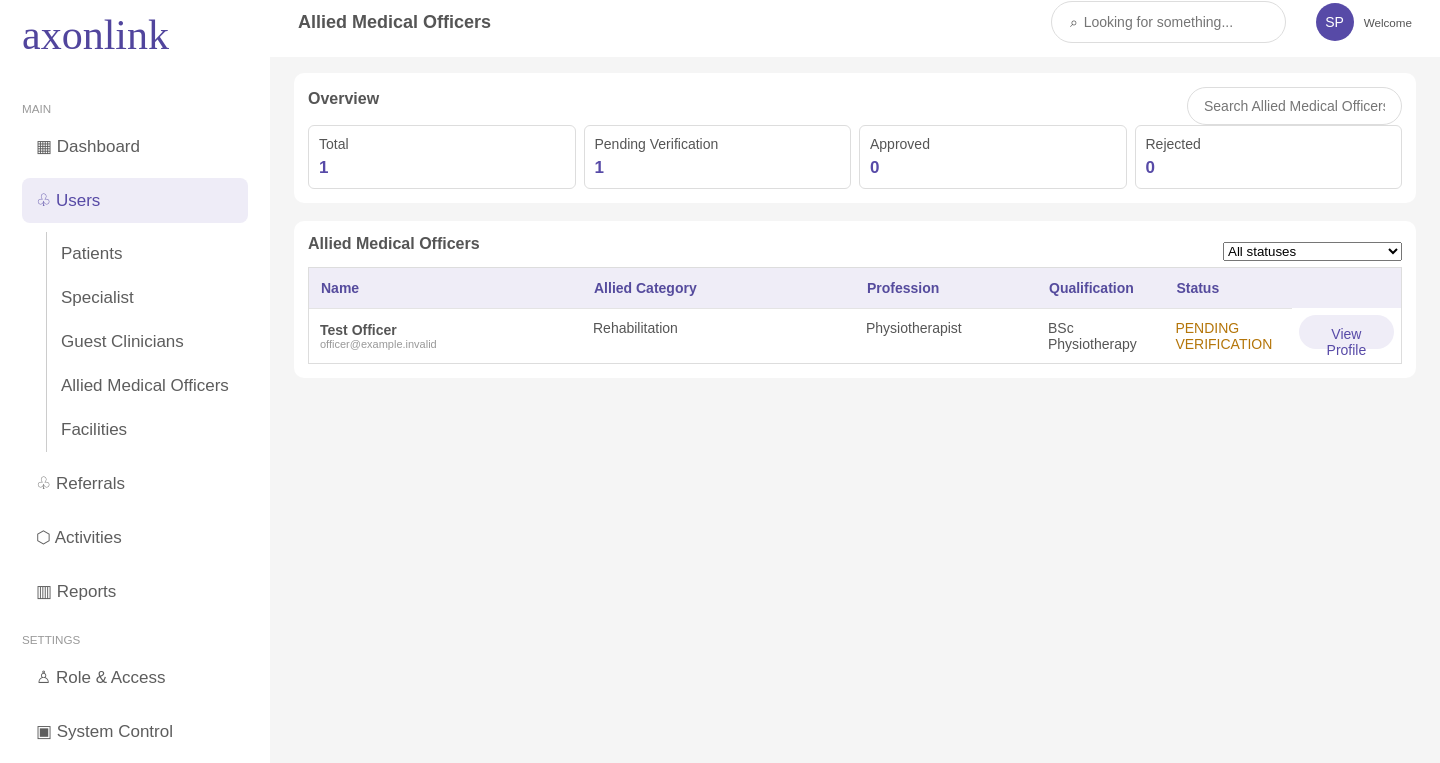
Scenario: stale version rejection stays visible for refresh rather than claiming approval
Click the button "View Profile": click(1346, 332) left=1299, top=315, right=1394, bottom=349
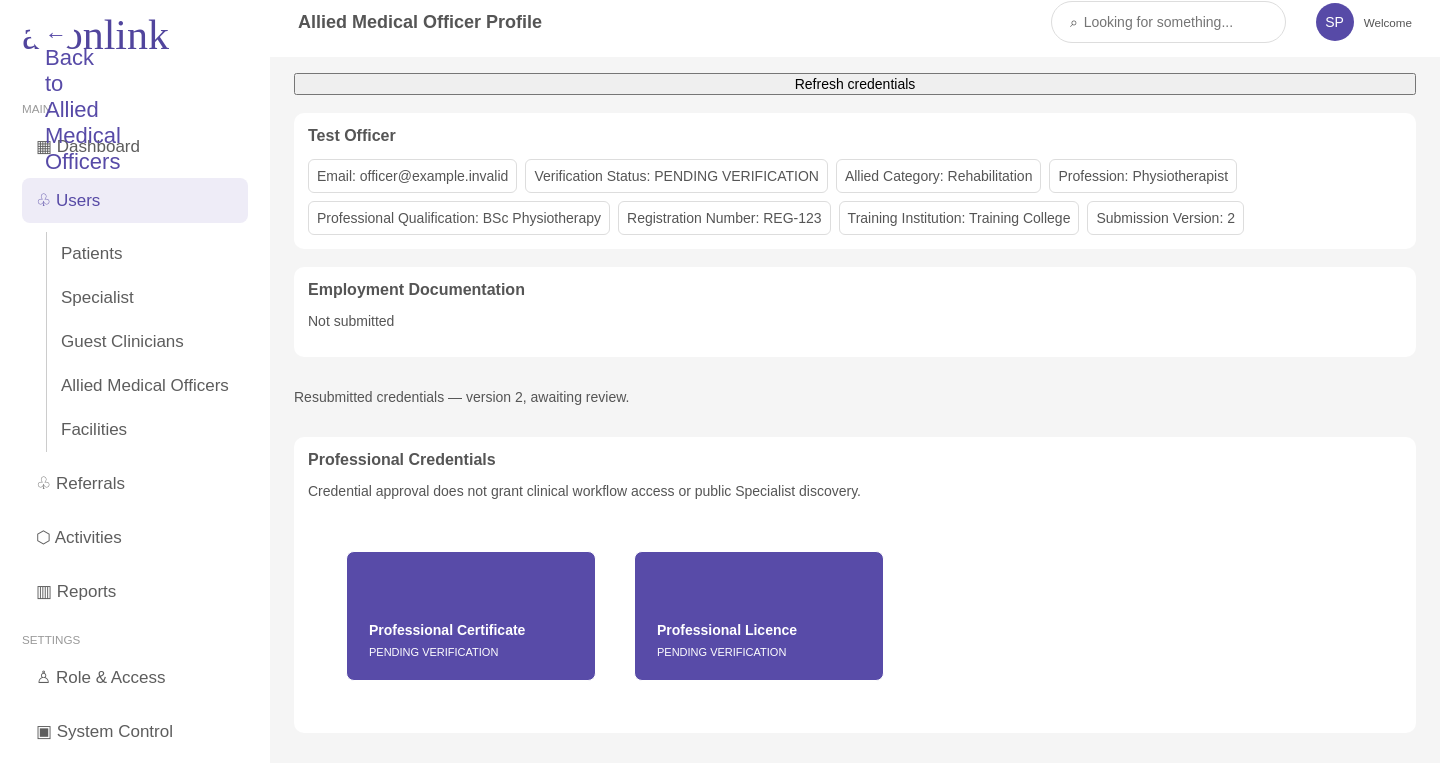
Now the text "Professional Qualification: BSc Physiotherapy" is shown, box left=308, top=201, right=610, bottom=235
Click the button "Professional Certificate PENDING VERIFICATION": click(471, 616) left=346, top=551, right=596, bottom=681
(page scrolled)
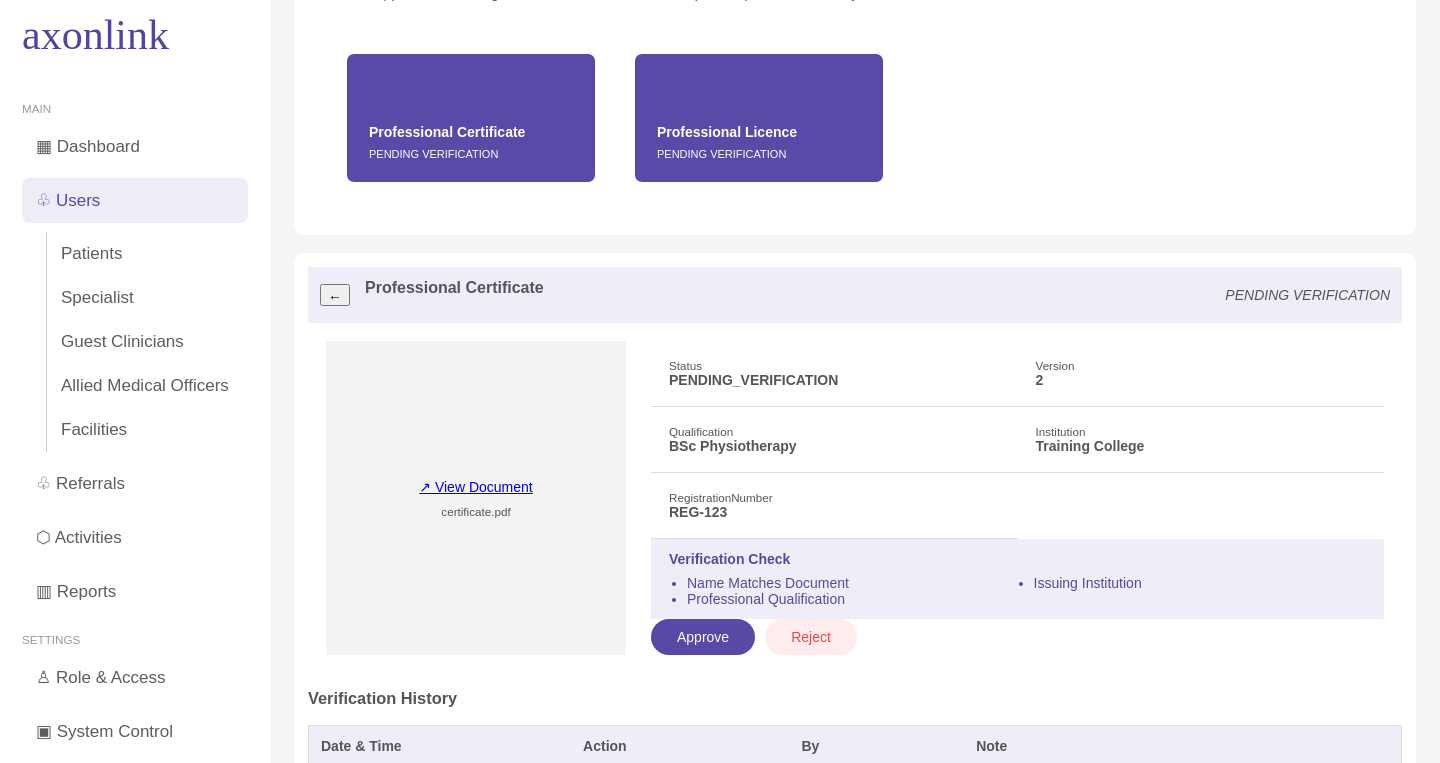
Click the button "Approve": click(703, 637) left=651, top=619, right=755, bottom=655
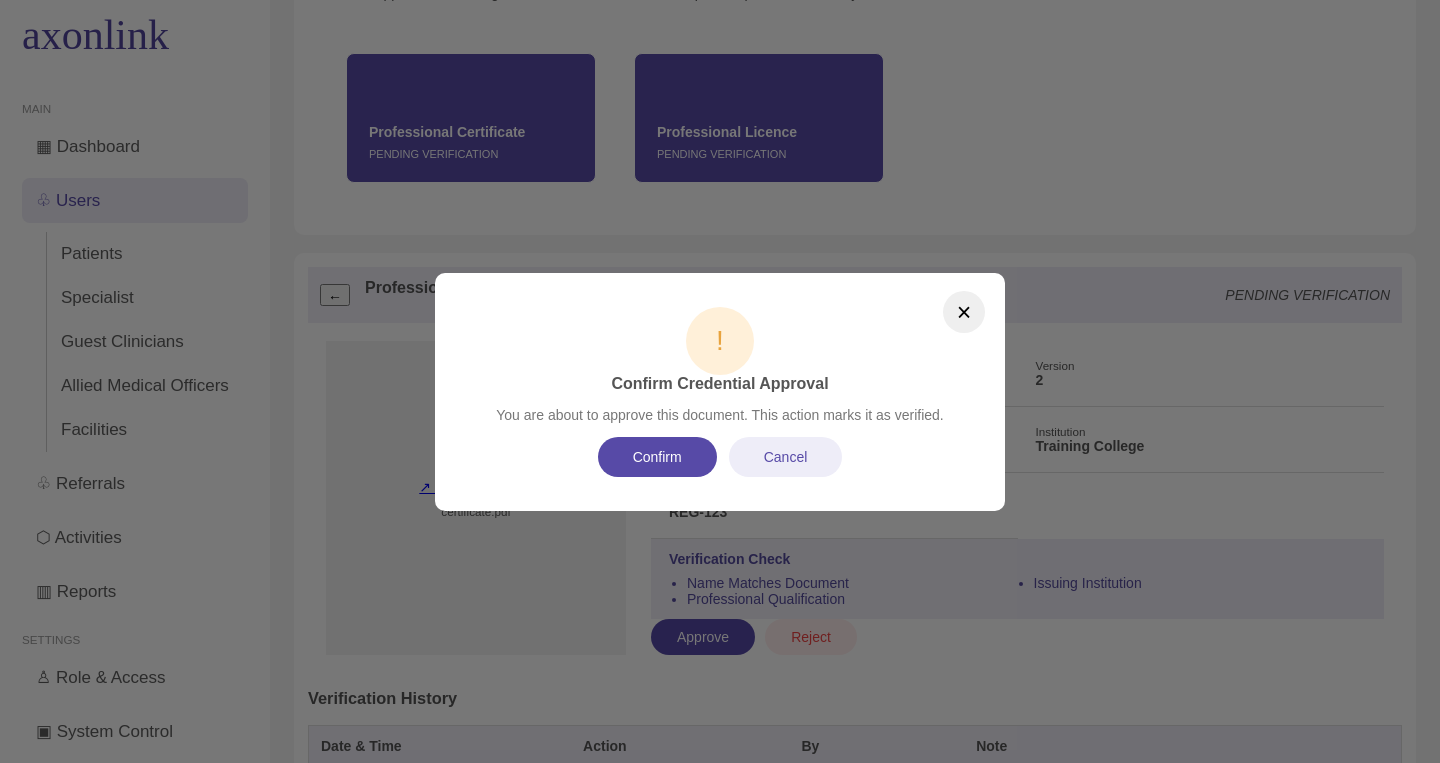
Click the button "Confirm": click(657, 457) left=598, top=437, right=717, bottom=477
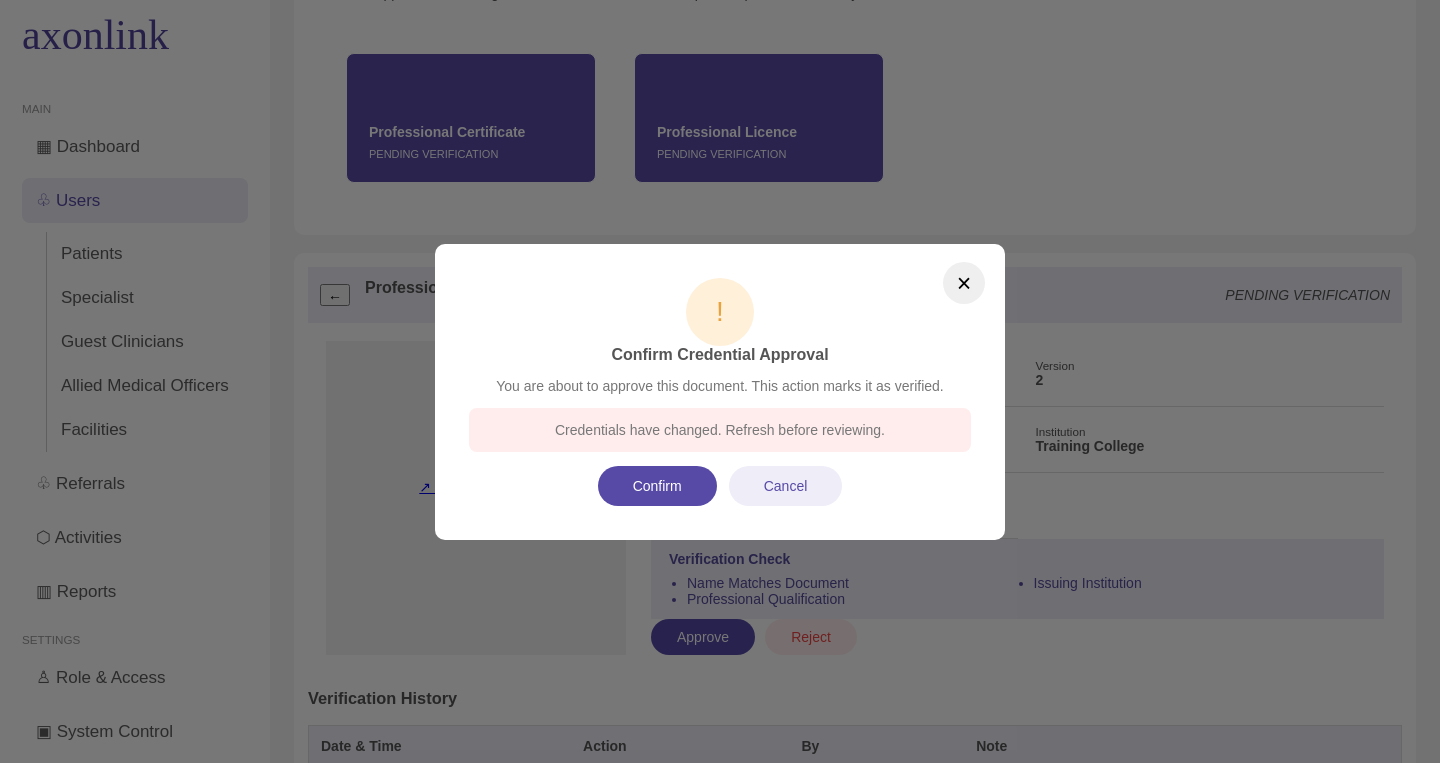
Now the text "Credentials have changed. Refresh before reviewing." is shown, box left=469, top=408, right=971, bottom=452
